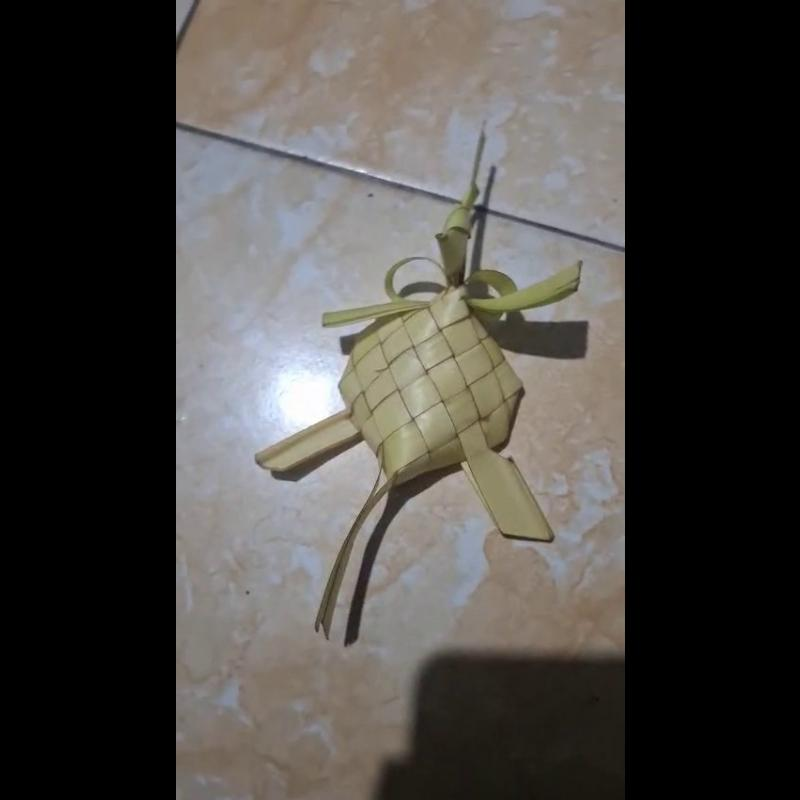Tipat Dampulan: (260, 128, 581, 641)
